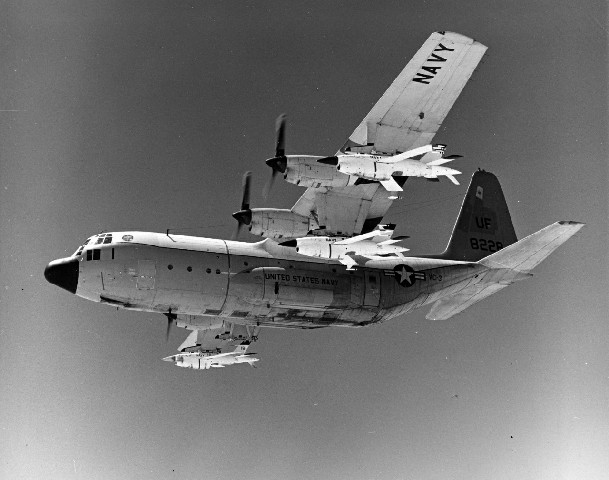maybay_khongnguoilai: (49, 40, 584, 358)
